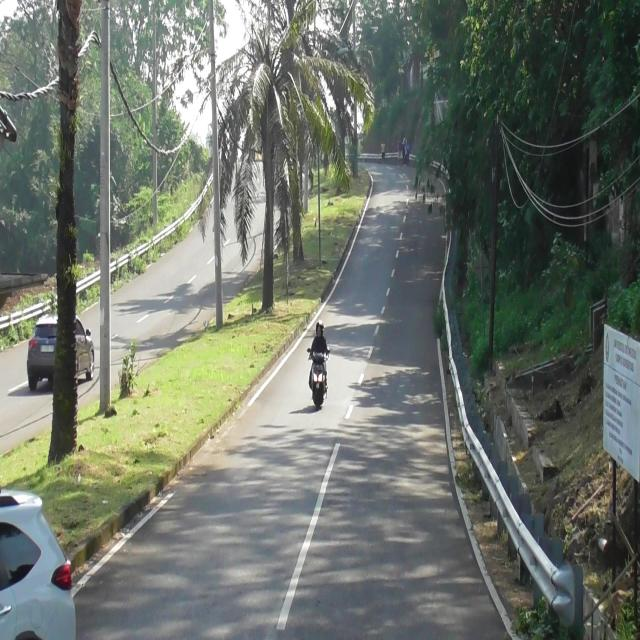motorcycle: (312, 350, 327, 410)
person: (309, 321, 330, 357)
rider_region: (306, 319, 330, 410)
